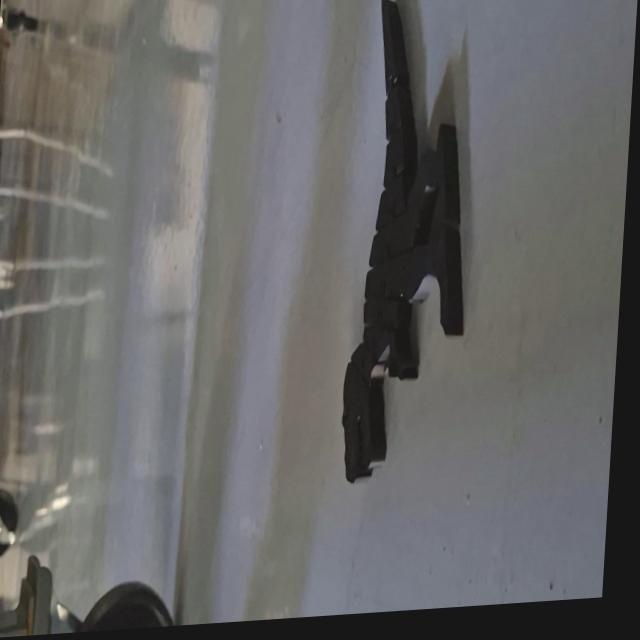dino: (336, 0, 485, 487)
